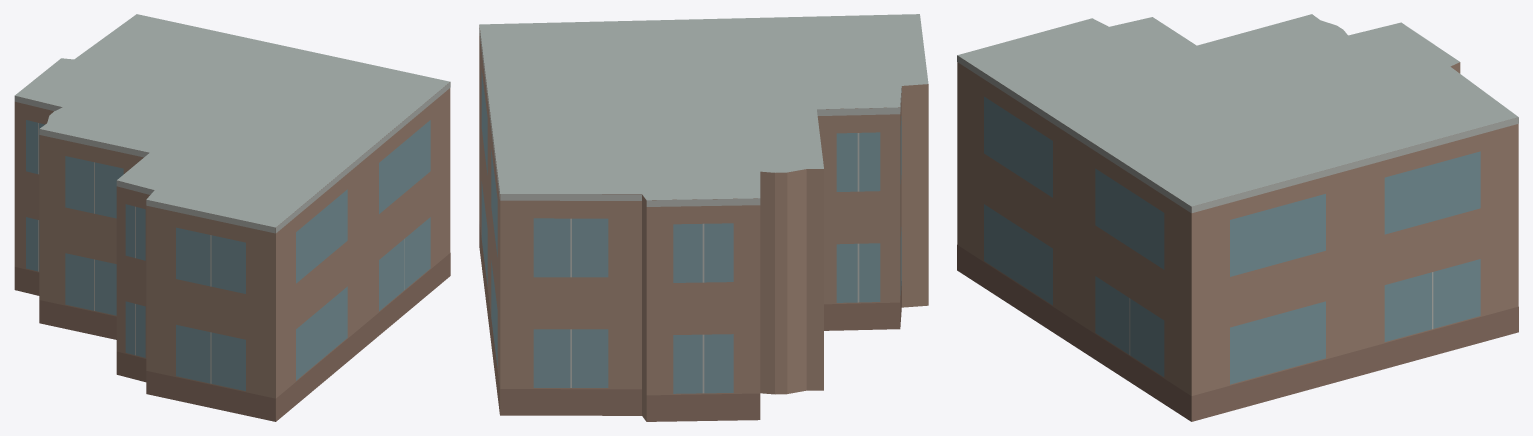
File: survey-upis-32619291.glb
3 renders of one model, left to right at view 1: azimuth 30°, elevation 25°; view 2: azimuth 150°, elevation 25°; view 3: azimuth 270°, elevation 25°, orthographic. The views are drawn at different scales.
Visible parts, largest first — view 1: survey-upis-32619291.tmp; view 2: survey-upis-32619291.tmp; view 3: survey-upis-32619291.tmp.
Boxes of the visible parts, x1=… form: survey-upis-32619291.tmp: x1=14, y1=14, x2=450, y2=421; survey-upis-32619291.tmp: x1=479, y1=14, x2=928, y2=421; survey-upis-32619291.tmp: x1=957, y1=14, x2=1518, y2=421.
Bounding box in the file's own units: 15.18 × 7.9 × 18.69.
